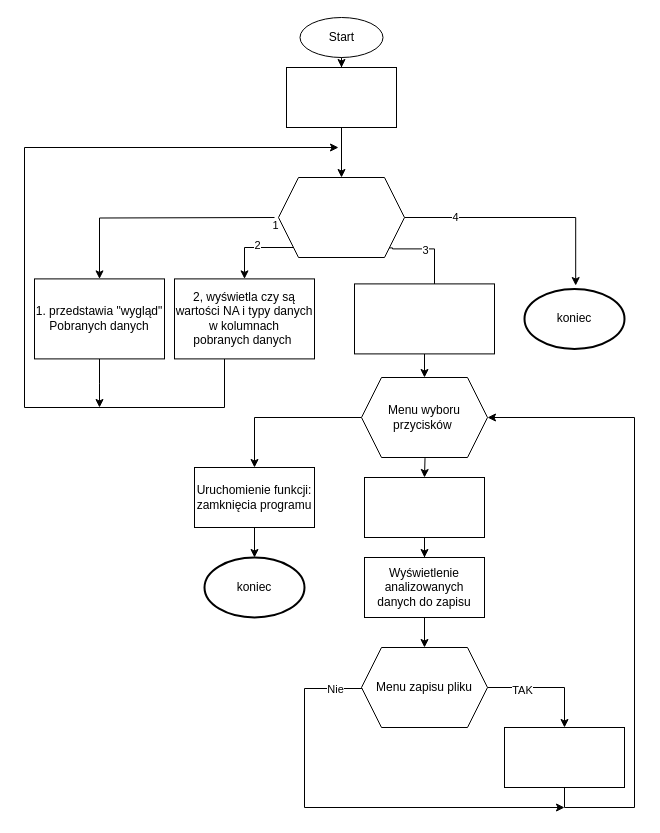
This 660x833 diagram has some shape labels left out. The centre of each missing label's shape, as x and y in pixels:
3.Uruchomia GUI Do analizy wykresów: (x=424, y=318)
Menu wyboru 1,2,3,4: (x=341, y=217)
Pobranie danych z pliku csv: (x=341, y=97)
Uruchomienie funkcji: Wyświetlających wykresy: (x=424, y=507)
Zapis danych do pliku wynik.csv: (x=564, y=757)
